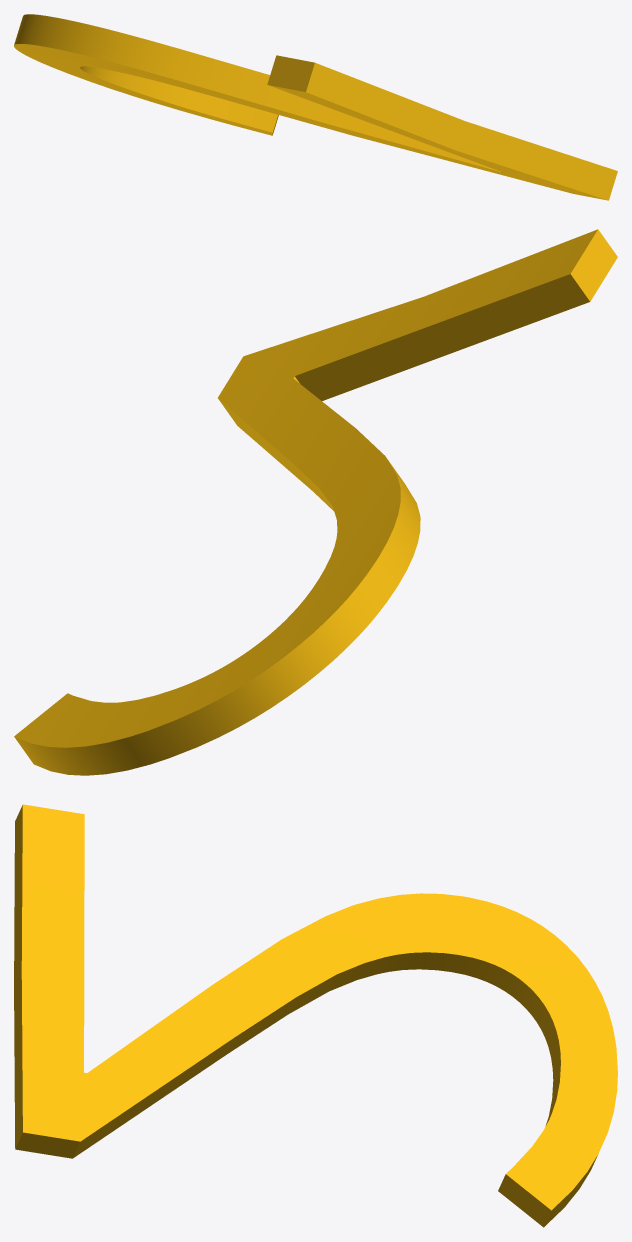
The model's file is Number_2.gltf.
3 renders of one model, top to bottom at view 1: azimuth 30°, elevation 25°; view 2: azimuth 150°, elevation 25°; view 3: azimuth 270°, elevation 25°, orthographic. The views are drawn at different scales.
Parts seen in each view (by area): view 1: Sub_8_Cell_3_2_Number_2; view 2: Sub_8_Cell_3_2_Number_2; view 3: Sub_8_Cell_3_2_Number_2.
Part boxes in pixels (<box>): Sub_8_Cell_3_2_Number_2: <box>14,14,617,200</box>; Sub_8_Cell_3_2_Number_2: <box>14,229,617,775</box>; Sub_8_Cell_3_2_Number_2: <box>14,804,617,1227</box>.
Bounding box in the file's own units: 0.0167 × 0.0144 × 0.0249.
